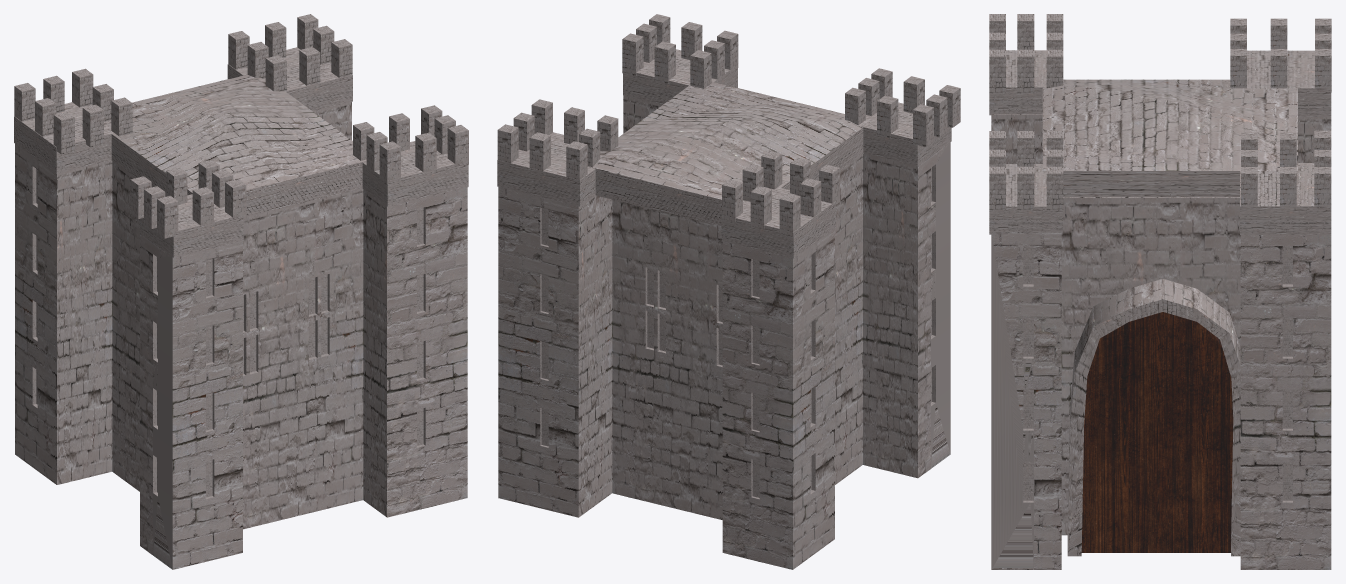
File: MidEvilCastle.FBX
The picture shows the model from 3 angles, left to right: view 1: azimuth 30°, elevation 25°; view 2: azimuth 150°, elevation 25°; view 3: azimuth 270°, elevation 25°; orthographic projection. The views are drawn at different scales.
Visible parts, largest first — view 1: Castle_Base, Box057, Box054, Box056, Box053, Box055, Box076, Box081, Box066, Box058, Box060, Box059 (+22 smaller); view 2: Castle_Base, Box057, Box056, Box055, Box053, Box054, Box062, Box063, Box080, Box074, Box069, Box070 (+22 smaller); view 3: Castle_Base, Box090, Box057, Roman_Arch, Box055, Box056, Box054, Box053, Box073, Box065, Box063, Box060 (+12 smaller).
Part boxes in pixels (x1,y1,x2,y2): Castle_Base: (15, 102, 467, 569); Box057: (104, 74, 366, 216); Box054: (362, 141, 468, 206); Box056: (14, 102, 114, 173); Box053: (139, 194, 243, 257); Box055: (227, 47, 352, 111); Box076: (53, 111, 74, 154); Box081: (82, 104, 103, 147); Box066: (157, 195, 178, 238); Box058: (379, 141, 400, 184); Box060: (447, 125, 468, 164); Box059: (415, 132, 436, 171); Castle_Base: (498, 95, 950, 569); Box057: (587, 81, 868, 225); Box056: (721, 187, 835, 258); Box055: (497, 132, 595, 206); Box053: (861, 102, 951, 166); Box054: (623, 49, 737, 104); Box062: (654, 41, 675, 83); Box063: (622, 33, 643, 76); Box080: (750, 186, 771, 229); Box074: (779, 193, 800, 236); Box069: (913, 104, 933, 146); Box070: (877, 95, 898, 138); Castle_Base: (991, 114, 1331, 569); Box090: (1081, 312, 1233, 552); Box057: (1042, 79, 1297, 196); Roman_Arch: (1067, 279, 1240, 556); Box055: (1240, 163, 1331, 234); Box056: (1247, 50, 1331, 116); Box054: (989, 164, 1062, 234); Box053: (989, 50, 1046, 115); Box073: (1017, 49, 1034, 93); Box065: (1017, 166, 1034, 210); Box063: (1046, 166, 1063, 210); Box060: (989, 166, 1005, 210).
Size of the model in its own units: 434 by 501 by 392.
Materials: 2 (2 with a texture image).
